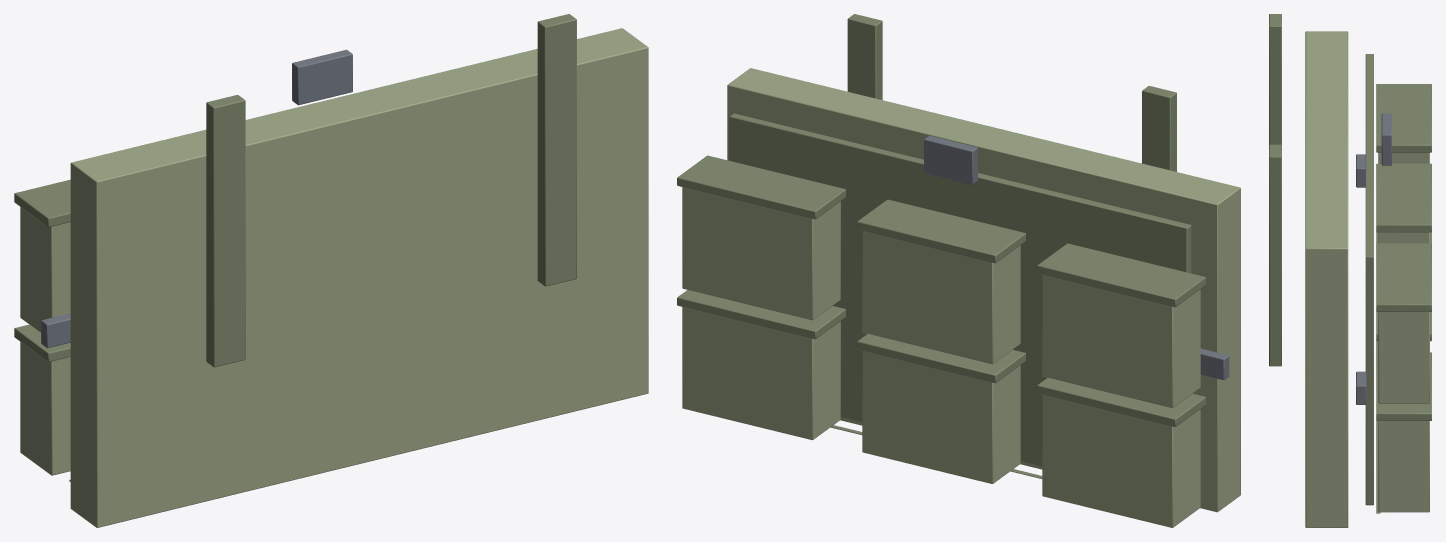
File: SM_RIG_PATROL.fbx
3 views of the same model, side by side, from view 1: azimuth 30°, elevation 25°; view 2: azimuth 150°, elevation 25°; view 3: azimuth 270°, elevation 25° (orthographic). The views are drawn at different scales.
Visible parts, largest first — view 1: SM_RIG_PATROL; view 2: SM_RIG_PATROL; view 3: SM_RIG_PATROL.
Boxes of the visible parts, x1=… form: SM_RIG_PATROL: x1=14, y1=14, x2=648, y2=527; SM_RIG_PATROL: x1=677, y1=14, x2=1240, y2=527; SM_RIG_PATROL: x1=1269, y1=14, x2=1431, y2=527.
Size of what is drawn, in the model's own units: 0.64 by 0.43 by 0.19.
